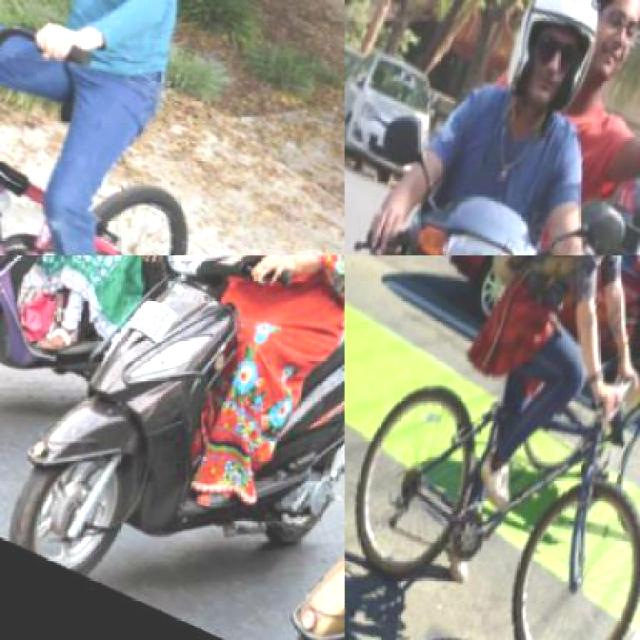With Helmet: (470, 0, 628, 140)
Without Helmet: (547, 0, 638, 92)
